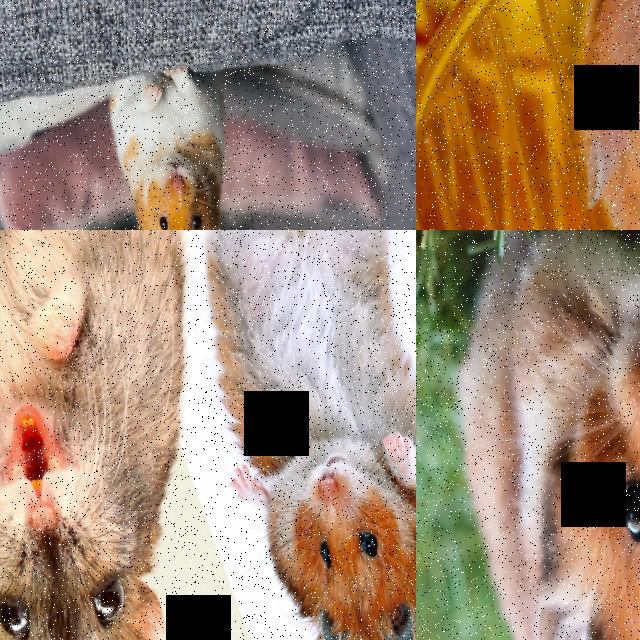hamster: (0, 230, 250, 640), (180, 230, 416, 640), (432, 230, 640, 640), (101, 65, 251, 230), (543, 0, 640, 230)
